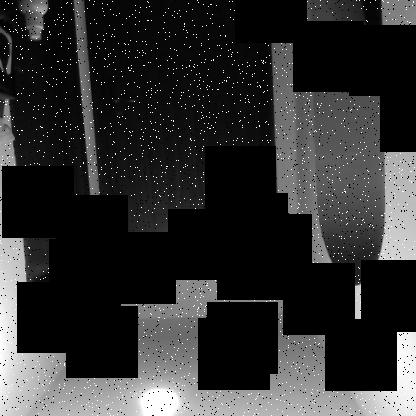Porte: (80, 0, 282, 265)
